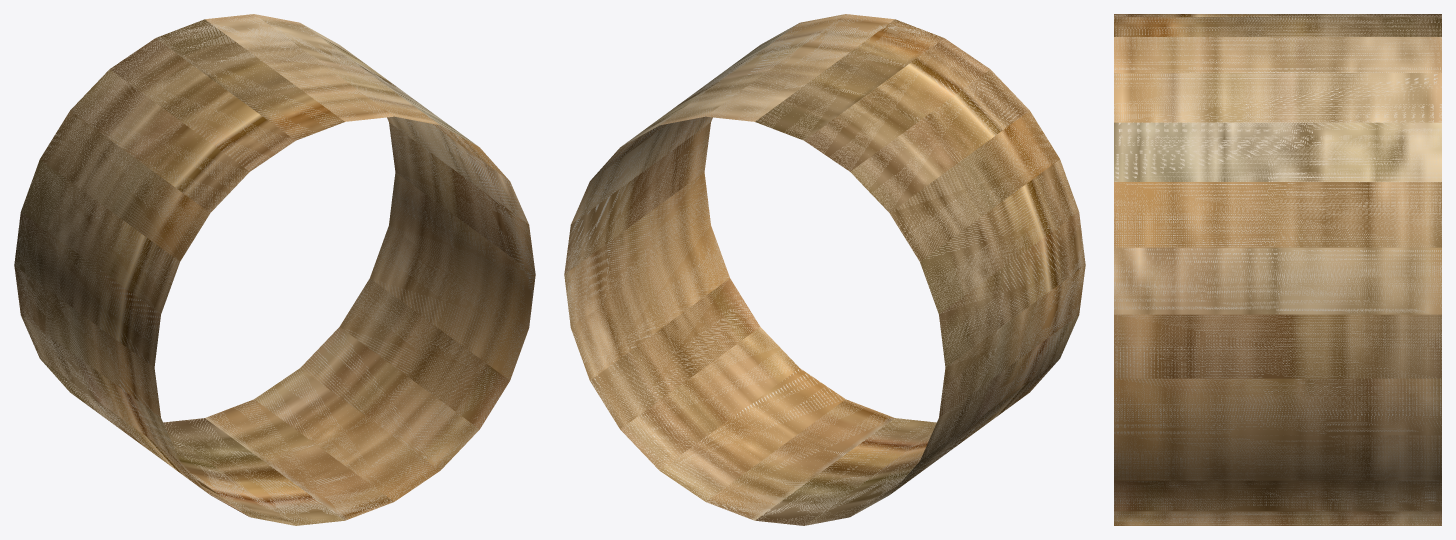
The model's file is original-24.obj.
3 views of the same model, side by side, from view 1: azimuth 30°, elevation 25°; view 2: azimuth 150°, elevation 25°; view 3: azimuth 270°, elevation 25° (orthographic). The views are drawn at different scales.
Visible parts, largest first — view 1: #ID230; view 2: #ID230; view 3: #ID230.
Boxes of the visible parts, <box> form: #ID230: <box>14,14,535,525</box>; #ID230: <box>564,14,1085,525</box>; #ID230: <box>1114,14,1441,525</box>.
Size of the model in its own units: 0.0223 by 0.0223 by 0.0142.
